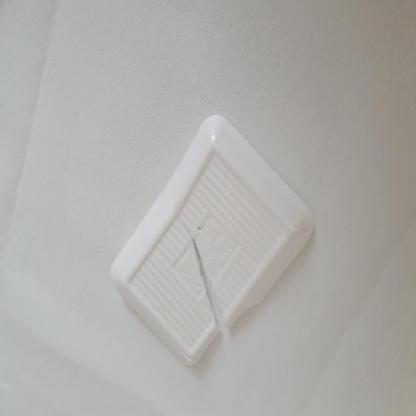Glass Cup: (110, 115, 314, 370), (110, 115, 313, 366)
